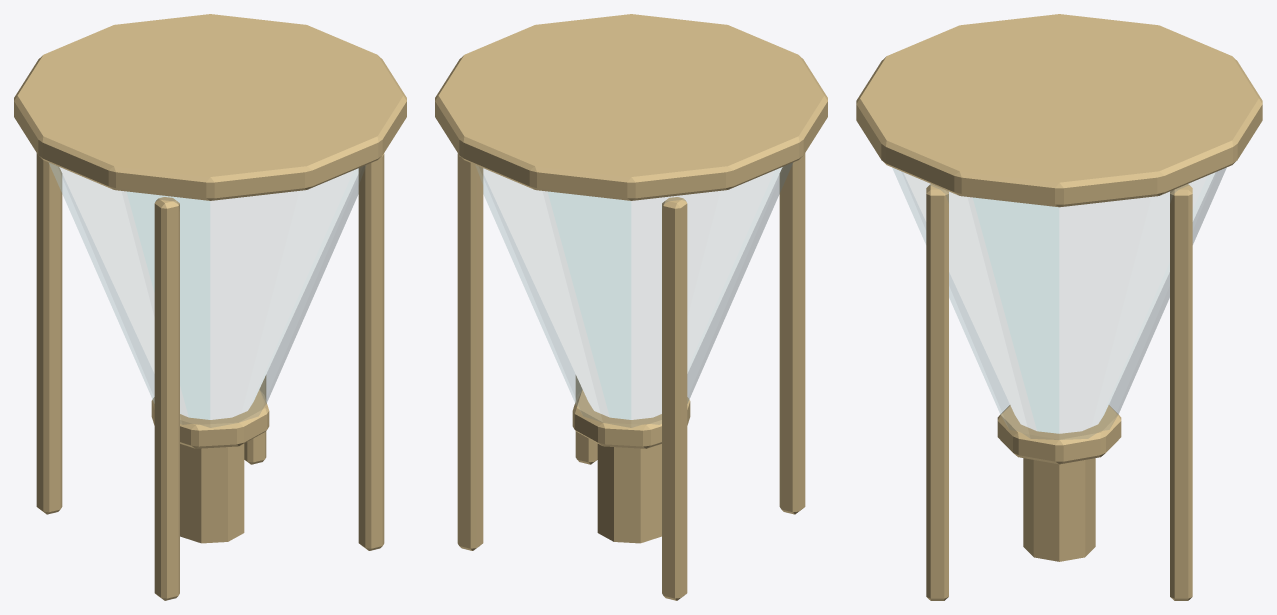
File: In_Hopper.fbx
3 renders of one model, left to right at view 1: azimuth 30°, elevation 25°; view 2: azimuth 150°, elevation 25°; view 3: azimuth 270°, elevation 25°, orthographic. The views are drawn at different scales.
Parts seen in each view (by area): view 1: In_Hopper, Liquid.002; view 2: In_Hopper, Liquid.002; view 3: In_Hopper, Liquid.002.
Part boxes in pixels (x1,y1,x2,y2): In_Hopper: [14, 14, 406, 600]; Liquid.002: [59, 167, 358, 419]; In_Hopper: [435, 14, 827, 600]; Liquid.002: [483, 167, 782, 419]; In_Hopper: [856, 14, 1262, 600]; Liquid.002: [903, 172, 1215, 433].
Bounding box in the file's own units: 0.8948 × 1.09 × 0.8948.
